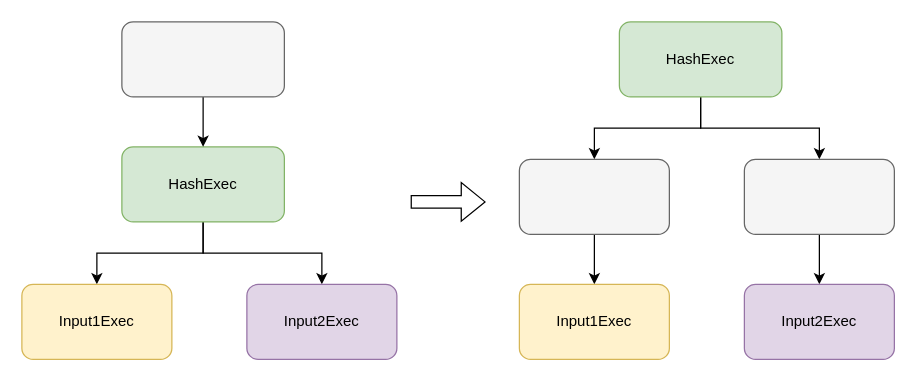
This 916x381 diagram has some shape labels left out. Each missing label, with the centre of its shape:
"Projection1Exec" goes at point (593, 196).
"Projection2Exec" goes at point (818, 196).
"ProjectionExec" goes at point (202, 59).
